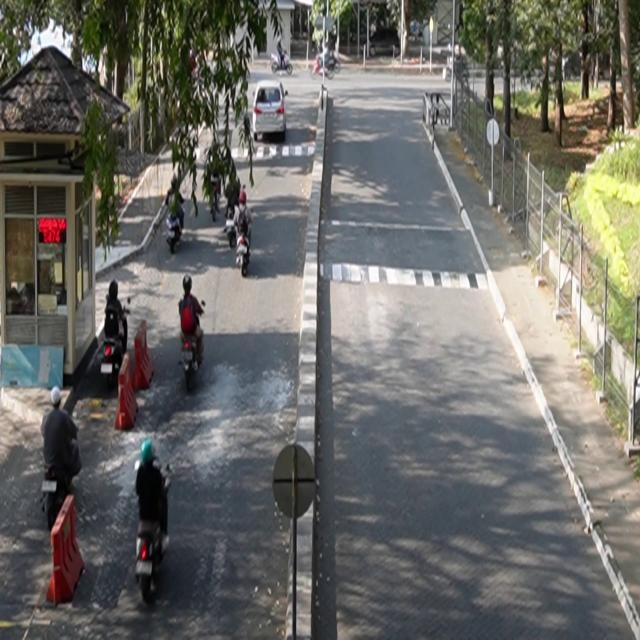car: (253, 81, 289, 143)
